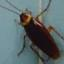cockroach: (18, 10, 60, 60)
